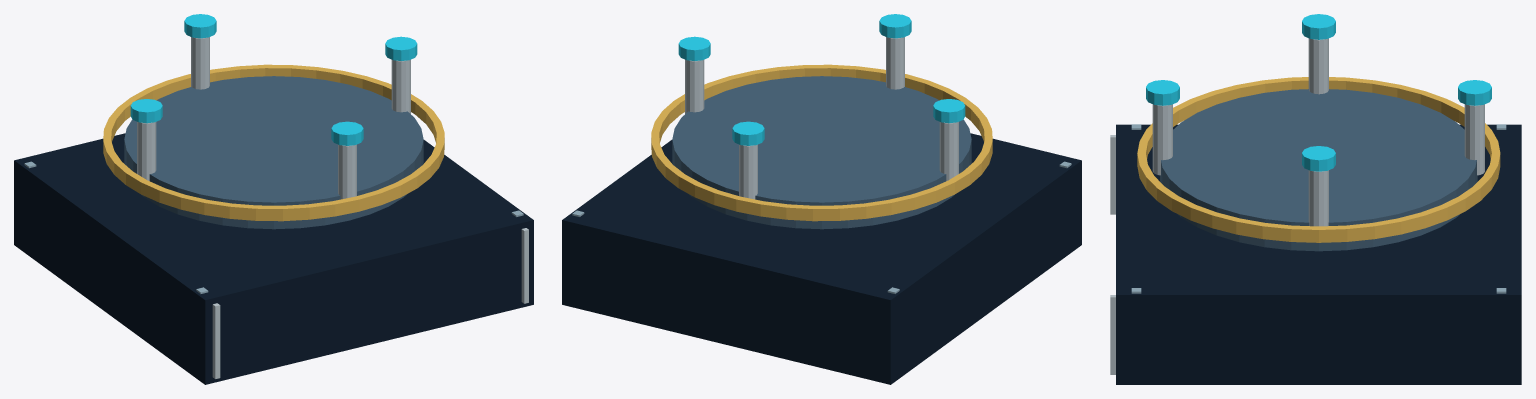
Rendered from 14_L73_WaferLiftAndAlignmentAssembly.fbx.
The picture shows the model from 3 angles, left to right: view 1: azimuth 30°, elevation 25°; view 2: azimuth 150°, elevation 25°; view 3: azimuth 270°, elevation 25°; orthographic projection. The views are drawn at different scales.
Visible parts, largest first — view 1: WaferLiftAndAlignmentAssembly, WaferLiftAndAlignmentAssembly_Part_0007, WaferLiftAndAlignmentAssembly_Part_0016, WaferLiftAndAlignmentAssembly_Part_0012, WaferLiftAndAlignmentAssembly_Part_0008, WaferLiftAndAlignmentAssembly_Part_0010, WaferLiftAndAlignmentAssembly_Part_0014, WaferLiftAndAlignmentAssembly_Part_0011, WaferLiftAndAlignmentAssembly_Part_0015, WaferLiftAndAlignmentAssembly_Part_0009, WaferLiftAndAlignmentAssembly_Part_0013; view 2: WaferLiftAndAlignmentAssembly, WaferLiftAndAlignmentAssembly_Part_0007, WaferLiftAndAlignmentAssembly_Part_0016, WaferLiftAndAlignmentAssembly_Part_0012, WaferLiftAndAlignmentAssembly_Part_0008, WaferLiftAndAlignmentAssembly_Part_0014, WaferLiftAndAlignmentAssembly_Part_0010, WaferLiftAndAlignmentAssembly_Part_0011, WaferLiftAndAlignmentAssembly_Part_0015, WaferLiftAndAlignmentAssembly_Part_0009, WaferLiftAndAlignmentAssembly_Part_0013; view 3: WaferLiftAndAlignmentAssembly, WaferLiftAndAlignmentAssembly_Part_0007, WaferLiftAndAlignmentAssembly_Part_0016, WaferLiftAndAlignmentAssembly_Part_0010, WaferLiftAndAlignmentAssembly_Part_0014, WaferLiftAndAlignmentAssembly_Part_0008, WaferLiftAndAlignmentAssembly_Part_0012, WaferLiftAndAlignmentAssembly_Part_0011, WaferLiftAndAlignmentAssembly_Part_0013, WaferLiftAndAlignmentAssembly_Part_0015, WaferLiftAndAlignmentAssembly_Part_0009.
Part boxes in pixels (x1,y1,x2,y2): WaferLiftAndAlignmentAssembly: (14,133,533,384); WaferLiftAndAlignmentAssembly_Part_0007: (124,76,423,229); WaferLiftAndAlignmentAssembly_Part_0016: (103,64,444,221); WaferLiftAndAlignmentAssembly_Part_0012: (137,122,156,180); WaferLiftAndAlignmentAssembly_Part_0008: (391,59,410,113); WaferLiftAndAlignmentAssembly_Part_0010: (338,144,356,199); WaferLiftAndAlignmentAssembly_Part_0014: (191,37,209,89); WaferLiftAndAlignmentAssembly_Part_0011: (331,121,363,145); WaferLiftAndAlignmentAssembly_Part_0015: (184,14,216,38); WaferLiftAndAlignmentAssembly_Part_0009: (385,36,417,60); WaferLiftAndAlignmentAssembly_Part_0013: (130,99,162,123); WaferLiftAndAlignmentAssembly: (562,133,1081,384); WaferLiftAndAlignmentAssembly_Part_0007: (672,76,971,229); WaferLiftAndAlignmentAssembly_Part_0016: (651,64,992,221); WaferLiftAndAlignmentAssembly_Part_0012: (939,122,958,180); WaferLiftAndAlignmentAssembly_Part_0008: (685,59,704,113); WaferLiftAndAlignmentAssembly_Part_0014: (739,144,757,199); WaferLiftAndAlignmentAssembly_Part_0010: (886,37,904,89); WaferLiftAndAlignmentAssembly_Part_0011: (879,14,911,38); WaferLiftAndAlignmentAssembly_Part_0015: (732,121,764,145); WaferLiftAndAlignmentAssembly_Part_0009: (678,36,710,60); WaferLiftAndAlignmentAssembly_Part_0013: (933,99,965,123); WaferLiftAndAlignmentAssembly: (1110,124,1521,384); WaferLiftAndAlignmentAssembly_Part_0007: (1160,89,1477,251); WaferLiftAndAlignmentAssembly_Part_0016: (1137,77,1500,242); WaferLiftAndAlignmentAssembly_Part_0010: (1152,104,1172,175); WaferLiftAndAlignmentAssembly_Part_0014: (1464,104,1484,175); WaferLiftAndAlignmentAssembly_Part_0008: (1308,170,1328,226); WaferLiftAndAlignmentAssembly_Part_0012: (1308,38,1328,94); WaferLiftAndAlignmentAssembly_Part_0011: (1146,80,1179,105); WaferLiftAndAlignmentAssembly_Part_0013: (1302,14,1335,39); WaferLiftAndAlignmentAssembly_Part_0015: (1458,80,1491,105); WaferLiftAndAlignmentAssembly_Part_0009: (1302,146,1335,171).
Bounding box in the file's own units: 142 × 82.75 × 145.
